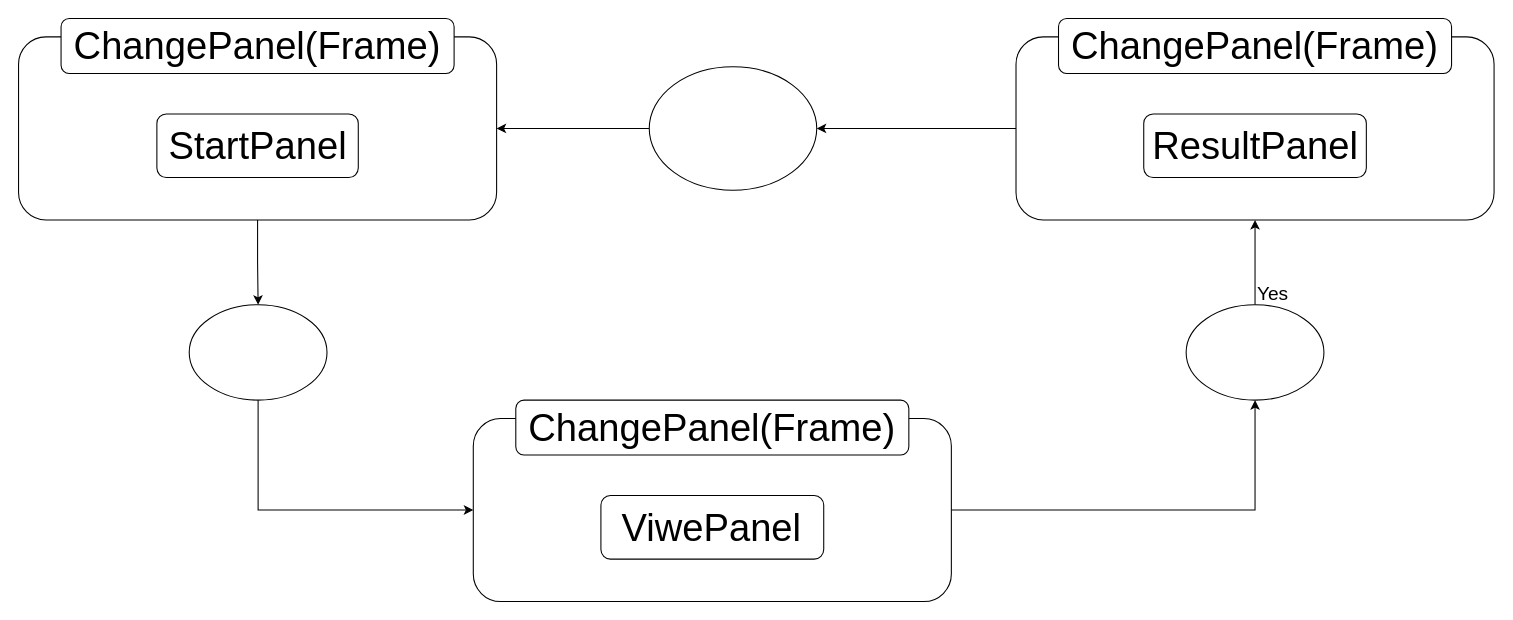
The diagram is 1513 pixels wide and 620 high, and some of its shapes have lost their labels. The shapes that lost their labels are listed below. From the top down, each one's centre as x and y in pixels, then its label:
point 732,128: Back to startButton
point 257,352: PlayButton
point 1254,352: Finish?
